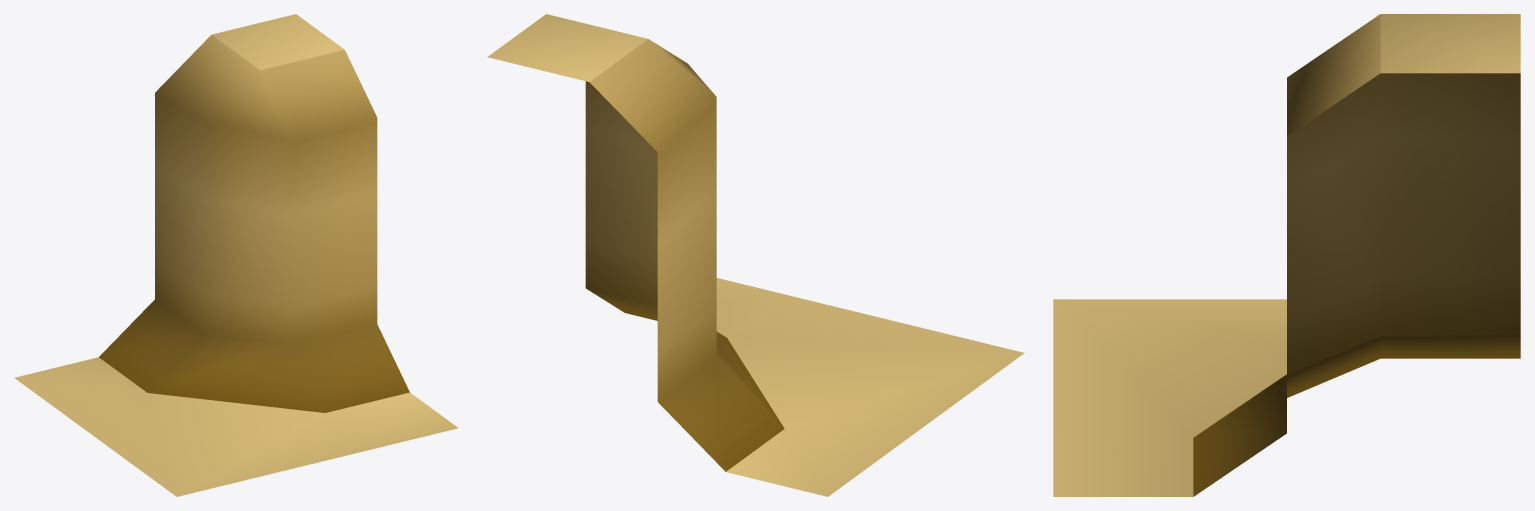
File: sand_corner2.FBX
3 views of the same model, side by side, from view 1: azimuth 30°, elevation 25°; view 2: azimuth 150°, elevation 25°; view 3: azimuth 270°, elevation 25° (orthographic). The views are drawn at different scales.
Parts seen in each view (by area): view 1: wall003; view 2: wall003; view 3: wall003.
Part boxes in pixels (x1,y1,x2,y2): wall003: [14, 14, 458, 496]; wall003: [487, 14, 1024, 496]; wall003: [1053, 14, 1520, 496].
Size of the model in its own units: 100 by 100 by 100.
